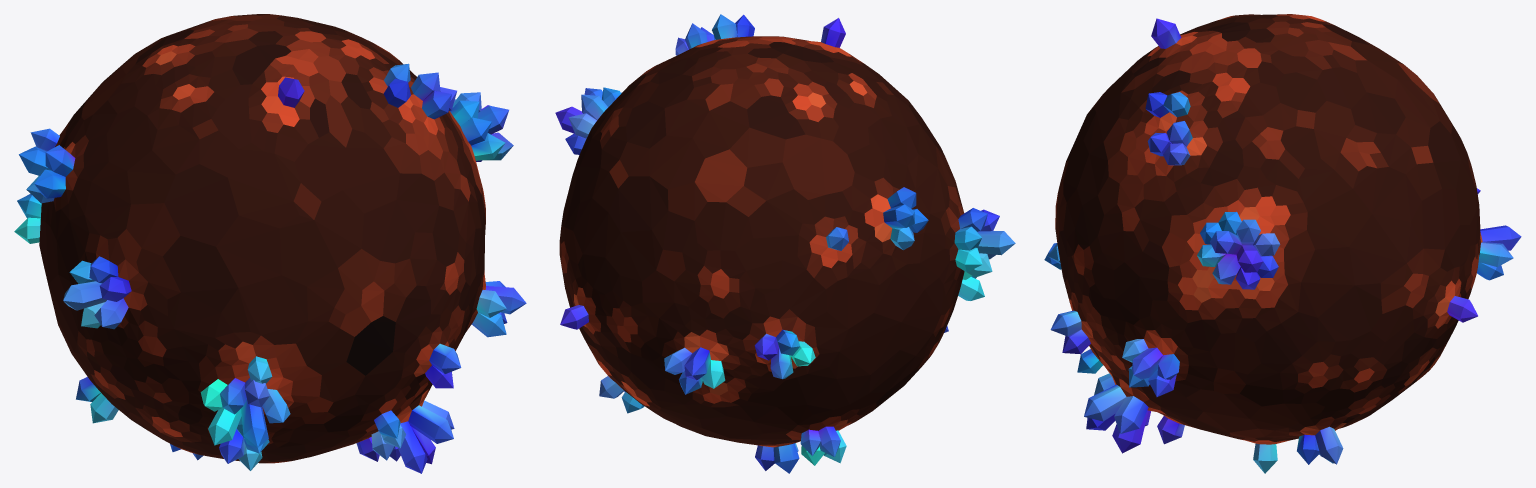
File: Crystal_planet_8.fbx
The picture shows the model from 3 angles, left to right: view 1: azimuth 30°, elevation 25°; view 2: azimuth 150°, elevation 25°; view 3: azimuth 270°, elevation 25°; orthographic projection. The views are drawn at different scales.
Visible parts, largest first — view 1: file6; view 2: file6; view 3: file6.
Boxes of the visible parts, x1=… form: file6: x1=14, y1=14, x2=526, y2=473; file6: x1=555, y1=14, x2=1015, y2=473; file6: x1=1044, y1=14, x2=1521, y2=473.
Size of the model in its own units: 2.44 by 2.12 by 2.24.
